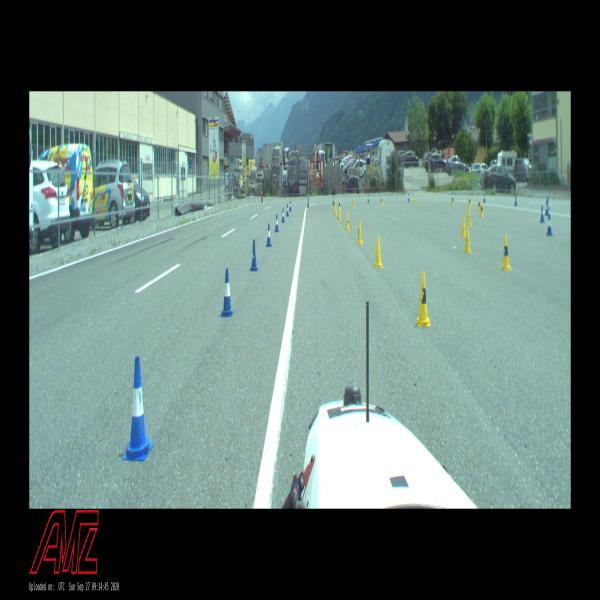blue_cone: (127, 356, 150, 459), (222, 268, 232, 316), (250, 240, 258, 272), (266, 224, 272, 246), (547, 214, 552, 234), (540, 205, 544, 222), (275, 215, 279, 232), (514, 195, 518, 206), (545, 201, 548, 214), (286, 203, 289, 216), (289, 201, 292, 211), (547, 196, 549, 210), (407, 193, 410, 202), (367, 194, 370, 203), (282, 209, 284, 222), (452, 192, 454, 202), (307, 198, 309, 208), (484, 193, 485, 202), (333, 195, 334, 204)
yellow_cone: (417, 272, 429, 325), (374, 236, 383, 268), (502, 236, 510, 270), (464, 225, 471, 253), (357, 221, 363, 245), (461, 215, 466, 237), (346, 213, 350, 230), (468, 208, 471, 226), (480, 203, 483, 218), (338, 208, 341, 221), (338, 199, 341, 211), (468, 196, 471, 208), (334, 203, 337, 215), (414, 194, 417, 205), (451, 195, 454, 205), (478, 198, 480, 211), (381, 196, 383, 206), (352, 198, 354, 208)
